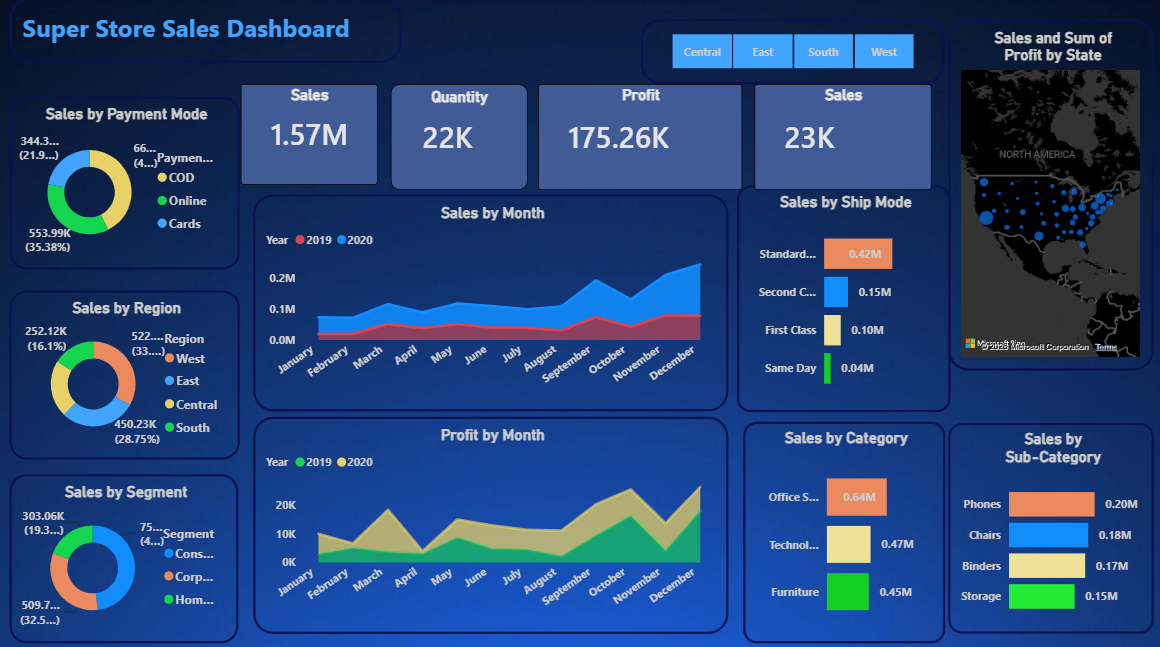

Layout of this report page (visuals, bound fields, positions):
{"tool":"powerbi","page":{"name":"Page 1","canvas":[1280,720],"ordinal":0},"visuals":[{"type":"clusteredBarChart","title":" Sales by Category","fields":{"Y":["Sum(SuperStore_Sales_Dataset.Sales)"],"Category":["SuperStore_Sales_Dataset.Category"]},"box":[818.6,465.7,221.4,242.9],"z":0},{"type":"clusteredBarChart","title":" Sales by Sub-Category","fields":{"Y":["Sum(SuperStore_Sales_Dataset.Sales)"],"Category":["SuperStore_Sales_Dataset.Sub-Category"]},"box":[1044.3,467.1,225.7,231.4],"z":1000},{"type":"clusteredBarChart","title":" Sales by Ship Mode","fields":{"Y":["Sum(SuperStore_Sales_Dataset.Sales)"],"Category":["SuperStore_Sales_Dataset.Ship Mode"]},"box":[812.9,205.7,234.3,248.6],"z":2000},{"type":"stackedAreaChart","title":" Sales by Month ","fields":{"Y":["Sum(SuperStore_Sales_Dataset.Sales)"],"Category":["SuperStore_Sales_Dataset.Order Date.Variation.Date Hierarchy.Month","SuperStore_Sales_Dataset.Order Date.Variation.Date Hierarchy.Day"],"Series":["SuperStore_Sales_Dataset.Order Date.Variation.Date Hierarchy.Year"]},"box":[281.4,215.7,521.4,238.6],"z":3000},{"type":"stackedAreaChart","title":" Profit by Month ","fields":{"Category":["SuperStore_Sales_Dataset.Order Date.Variation.Date Hierarchy.Month","SuperStore_Sales_Dataset.Order Date.Variation.Date Hierarchy.Day"],"Series":["SuperStore_Sales_Dataset.Order Date.Variation.Date Hierarchy.Year"],"Y":["Sum(SuperStore_Sales_Dataset.Profit)"]},"box":[281.4,460,521.4,238.6],"z":4000},{"type":"donutChart","title":"Sales by Payment Mode","fields":{"Y":["Sum(SuperStore_Sales_Dataset.Sales)"],"Category":["SuperStore_Sales_Dataset.Payment Mode"]},"box":[13.7,108.4,252.5,189.4],"z":5000},{"type":"donutChart","title":"Sales by Region","fields":{"Y":["Sum(SuperStore_Sales_Dataset.Sales)"],"Category":["SuperStore_Sales_Dataset.Region"]},"box":[13.7,321.1,252.5,185.2],"z":6000},{"type":"donutChart","title":" Sales by Segment","fields":{"Y":["Sum(SuperStore_Sales_Dataset.Sales)"],"Category":["SuperStore_Sales_Dataset.Segment"]},"box":[14.3,522.9,251.4,185.7],"z":7000},{"type":"map","title":" Sales and Sum of Profit by State","fields":{"Category":["SuperStore_Sales_Dataset.State"],"Size":["Sum(SuperStore_Sales_Dataset.Sales)"]},"box":[1044.3,22.9,225.7,385.7],"z":8000},{"type":"slicer","fields":{"Values":["SuperStore_Sales_Dataset.Region"]},"box":[707.1,22.9,332.9,71.4],"z":9000},{"type":"textbox","box":[14.3,0,430,71.4],"z":10000},{"type":"cardVisual","title":"Sales","fields":{"Data":["Sum(SuperStore_Sales_Dataset.Sales)"]},"box":[267.1,94.3,150,110],"z":11000},{"type":"cardVisual","title":"Quantity","fields":{"Data":["Sum(SuperStore_Sales_Dataset.Quantity)"]},"box":[432.9,94.3,150,115.7],"z":12000},{"type":"cardVisual","title":"Profit","fields":{"Data":["Sum(SuperStore_Sales_Dataset.Profit)"]},"box":[594.3,94.3,224.3,115.7],"z":13000},{"type":"cardVisual","title":"Sales","fields":{"Data":["Sum(SuperStore_Sales_Dataset.AvgDelivery)"]},"box":[831.4,94.3,194.3,115.7],"z":14000}]}

Visuals, with their boxes in screenshot pixels (x1, y1, x2, y2), scaled from the page's 1280x720 canvas onto the 1160x647 screenshot:
" Sales by Category" clusteredBarChart: <region>742, 418, 942, 637</region>
" Sales by Sub-Category" clusteredBarChart: <region>946, 420, 1151, 628</region>
" Sales by Ship Mode" clusteredBarChart: <region>737, 185, 949, 408</region>
" Sales by Month " stackedAreaChart: <region>255, 194, 728, 408</region>
" Profit by Month " stackedAreaChart: <region>255, 413, 728, 628</region>
"Sales by Payment Mode" donutChart: <region>12, 97, 241, 268</region>
"Sales by Region" donutChart: <region>12, 289, 241, 455</region>
" Sales by Segment" donutChart: <region>13, 470, 241, 637</region>
" Sales and Sum of Profit by State" map: <region>946, 21, 1151, 367</region>
slicer - SuperStore_Sales_Dataset.Region: <region>641, 21, 942, 85</region>
textbox: <region>13, 0, 403, 64</region>
"Sales" cardVisual: <region>242, 85, 378, 184</region>
"Quantity" cardVisual: <region>392, 85, 528, 189</region>
"Profit" cardVisual: <region>539, 85, 742, 189</region>
"Sales" cardVisual: <region>753, 85, 930, 189</region>
